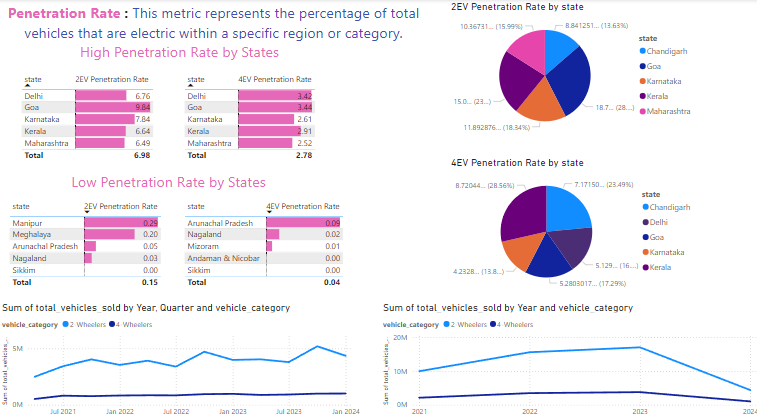

What the dashboard file says about the page in this screenshot:
{"tool":"powerbi","page":{"name":"Page 2","canvas":[1280,720],"ordinal":1},"visuals":[{"type":"tableEx","fields":{"Values":["electric_vehicle_sales_by_state.state","electric_vehicle_sales_by_state.2EV Penetration Rate"]},"box":[31.9,119.3,253.6,166.3],"z":0},{"type":"tableEx","fields":{"Values":["electric_vehicle_sales_by_state.state","electric_vehicle_sales_by_state.4EV Penetration Rate"]},"box":[305.7,119.3,248.6,166.3],"z":1000},{"type":"tableEx","fields":{"Values":["electric_vehicle_sales_by_state.state","electric_vehicle_sales_by_state.2EV Penetration Rate"]},"box":[11.8,332.6,273.8,166.3],"z":2000},{"type":"tableEx","fields":{"Values":["electric_vehicle_sales_by_state.state","electric_vehicle_sales_by_state.4EV Penetration Rate"]},"box":[305.7,332.6,294,166.3],"z":3000},{"type":"lineChart","fields":{"Y":["Sum(electric_vehicle_sales_by_state.total_vehicles_sold)"],"Category":["electric_vehicle_sales_by_state.date.Variation.Date Hierarchy.Year","electric_vehicle_sales_by_state.date.Variation.Date Hierarchy.Quarter"],"Series":["electric_vehicle_sales_by_state.vehicle_category"]},"box":[0,507.3,611.4,213.3],"z":4000},{"type":"pieChart","fields":{"Category":["electric_vehicle_sales_by_state.state","electric_vehicle_sales_by_state.date.Variation.Date Hierarchy.Year"],"Y":["electric_vehicle_sales_by_state.2EV Penetration Rate"]},"box":[754.2,1.7,421.6,235.2],"z":5000},{"type":"lineChart","fields":{"Y":["Sum(electric_vehicle_sales_by_state.total_vehicles_sold)"],"Category":["electric_vehicle_sales_by_state.date.Variation.Date Hierarchy.Year"],"Series":["electric_vehicle_sales_by_state.vehicle_category"]},"box":[640,507.3,640,213.3],"z":6000},{"type":"pieChart","fields":{"Category":["electric_vehicle_sales_by_state.state","electric_vehicle_sales_by_state.date.Variation.Date Hierarchy.Year"],"Y":["electric_vehicle_sales_by_state.4EV Penetration Rate"]},"box":[754.2,263.7,421.6,235.2],"z":7000},{"type":"textbox","box":[0,1.7,720.6,87.3],"z":8000},{"type":"textbox","box":[122.6,67.2,361.2,52.1],"z":9000},{"type":"textbox","box":[104.1,285.6,361.2,47],"z":10000}]}

Visuals, with their boxes in screenshot pixels (x1, y1, x2, y2), scaled from the page's 1280x720 canvas onto the 757x418 screenshot:
tableEx - electric_vehicle_sales_by_state.state x electric_vehicle_sales_by_state.2EV Penetration Rate: (x1=19, y1=69, x2=169, y2=166)
tableEx - electric_vehicle_sales_by_state.state x electric_vehicle_sales_by_state.4EV Penetration Rate: (x1=181, y1=69, x2=328, y2=166)
tableEx - electric_vehicle_sales_by_state.state x electric_vehicle_sales_by_state.2EV Penetration Rate: (x1=7, y1=193, x2=169, y2=290)
tableEx - electric_vehicle_sales_by_state.state x electric_vehicle_sales_by_state.4EV Penetration Rate: (x1=181, y1=193, x2=355, y2=290)
lineChart - Sum(electric_vehicle_sales_by_state.total_vehicles_sold) x electric_vehicle_sales_by_state.date.Variation.Date Hierarchy.Year: (x1=0, y1=295, x2=362, y2=417)
pieChart - electric_vehicle_sales_by_state.state x electric_vehicle_sales_by_state.date.Variation.Date Hierarchy.Year: (x1=446, y1=1, x2=695, y2=138)
lineChart - Sum(electric_vehicle_sales_by_state.total_vehicles_sold) x electric_vehicle_sales_by_state.date.Variation.Date Hierarchy.Year: (x1=378, y1=295, x2=756, y2=417)
pieChart - electric_vehicle_sales_by_state.state x electric_vehicle_sales_by_state.date.Variation.Date Hierarchy.Year: (x1=446, y1=153, x2=695, y2=290)
textbox: (x1=0, y1=1, x2=426, y2=52)
textbox: (x1=73, y1=39, x2=286, y2=69)
textbox: (x1=62, y1=166, x2=275, y2=193)
